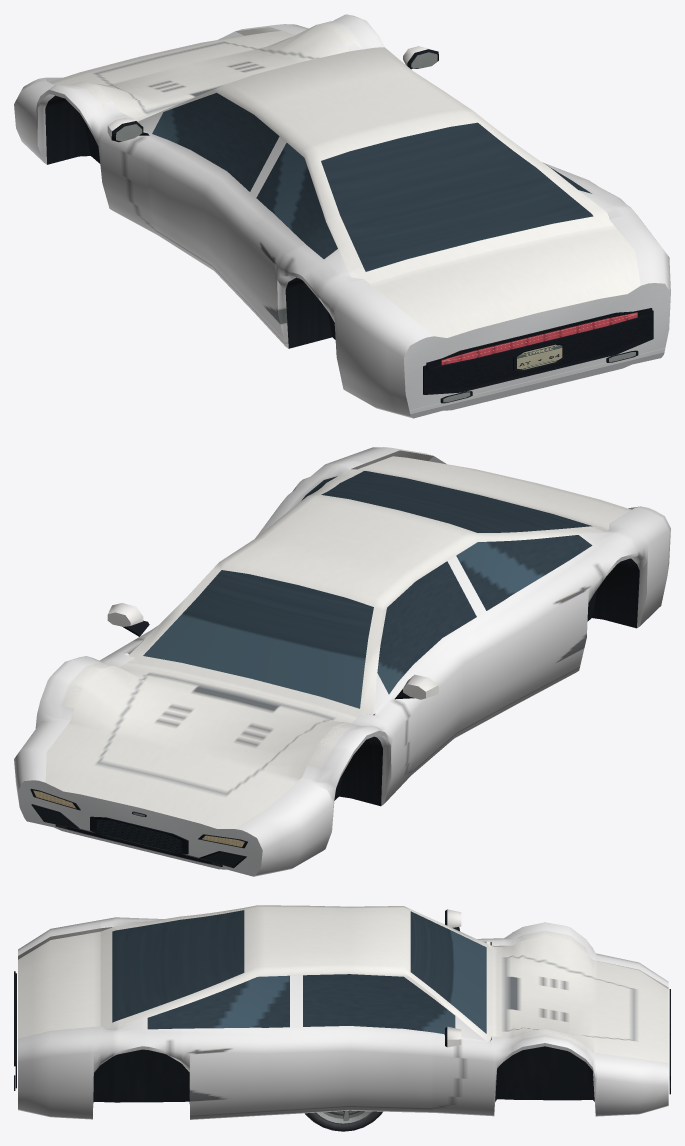
The model's file is miragem_r.glb.
3 renders of one model, top to bottom at view 1: azimuth 30°, elevation 25°; view 2: azimuth 150°, elevation 25°; view 3: azimuth 270°, elevation 25°, orthographic. The views are drawn at different scales.
Parts seen in each view (by area): view 1: Carroceria_miragem_r; view 2: Carroceria_miragem_r; view 3: Carroceria_miragem_r, Roda_miragem_r.
Boxes of the visible parts, x1,y1,x2,y2 form: Carroceria_miragem_r: (14,14,670,418); Carroceria_miragem_r: (14,447,670,876); Carroceria_miragem_r: (14,905,670,1119); Roda_miragem_r: (305,1110,382,1131).
Bounding box in the file's own units: 2.18 × 1.5 × 4.63.
6 materials, 6 textured.
